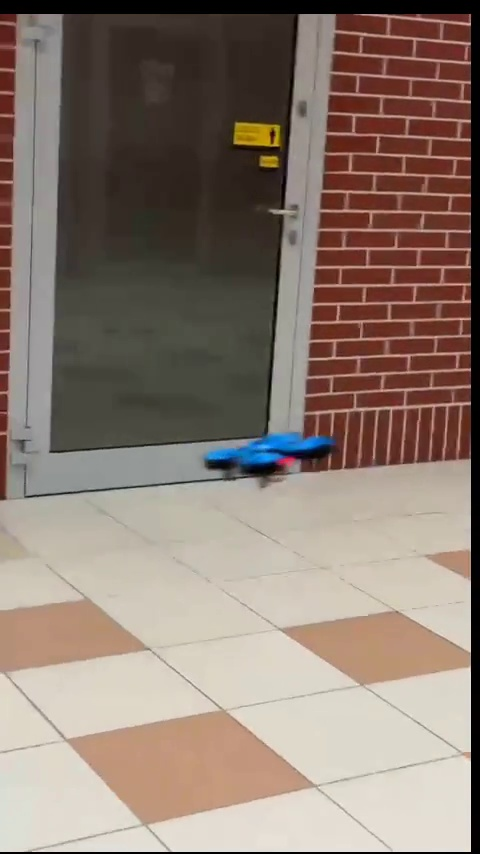drone: (204, 425, 323, 476)
